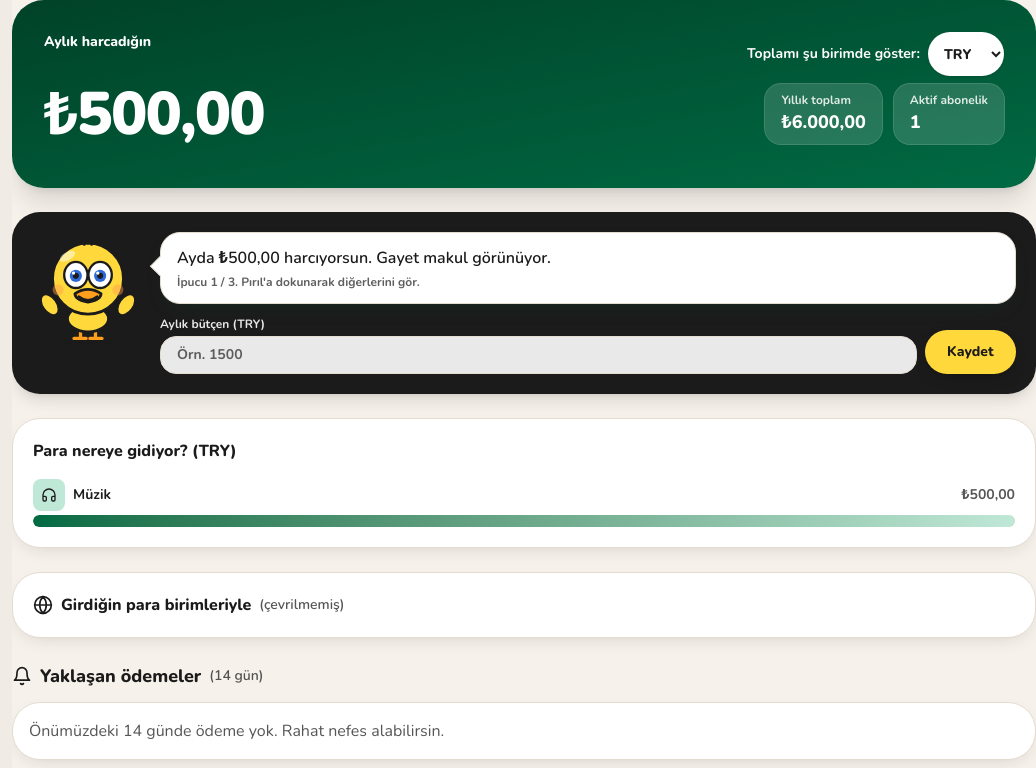
Test: Dashboard › mascot advice › reacts shocked once the saved budget is exceeded, and calms down when it is removed
Expected: the text "Gayet makul" is shown, x1=177 y1=247 x2=551 y2=269
Type "300" into the number field labelled "Aylık bütçen (TRY)" at point(538, 355), box x1=160 y1=336 x2=917 y2=374
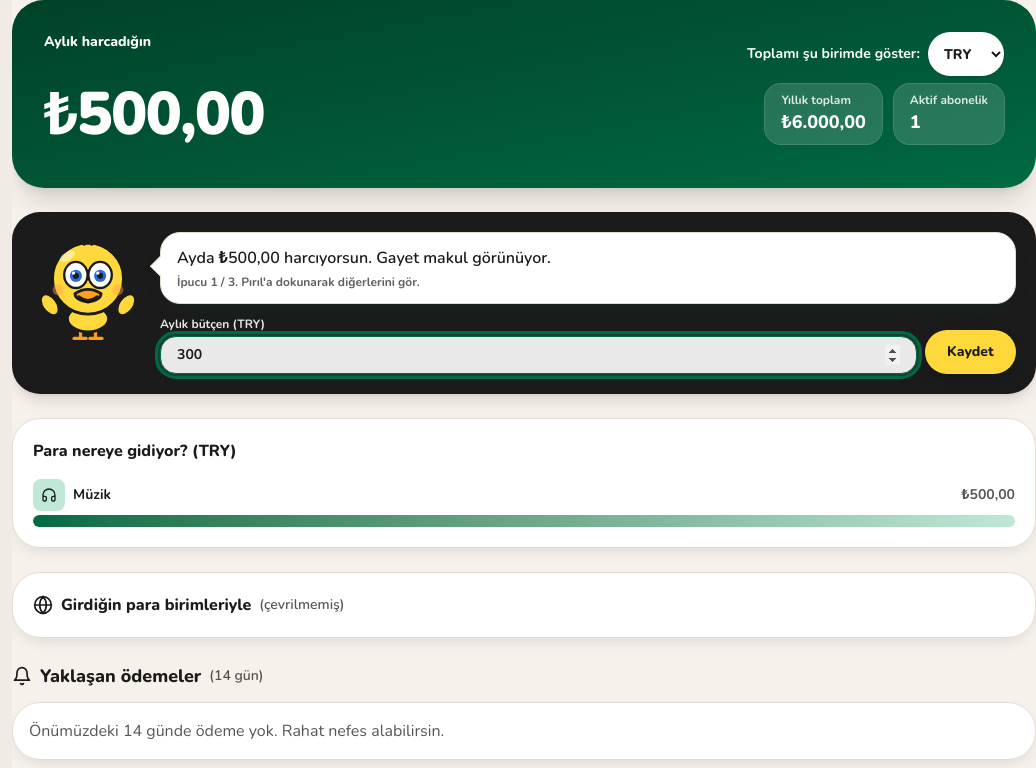
Click the button "Kaydet" at point(970, 352), box x1=925 y1=330 x2=1016 y2=374
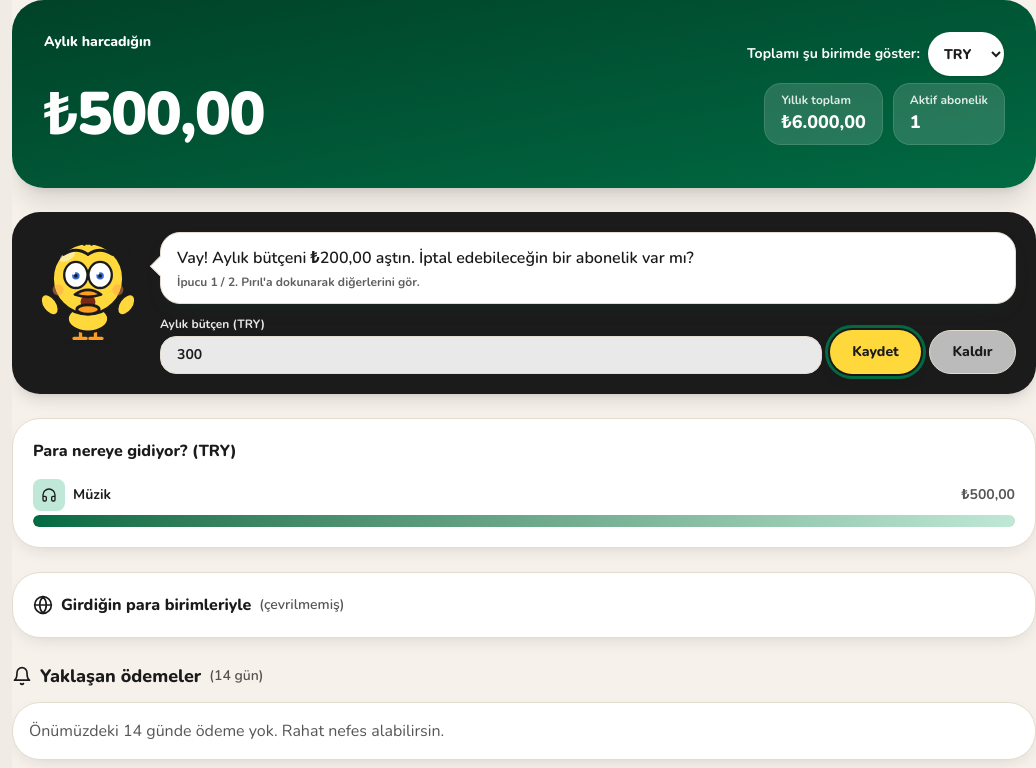
Click the button "Kaldır" at point(973, 352), box x1=929 y1=330 x2=1016 y2=374
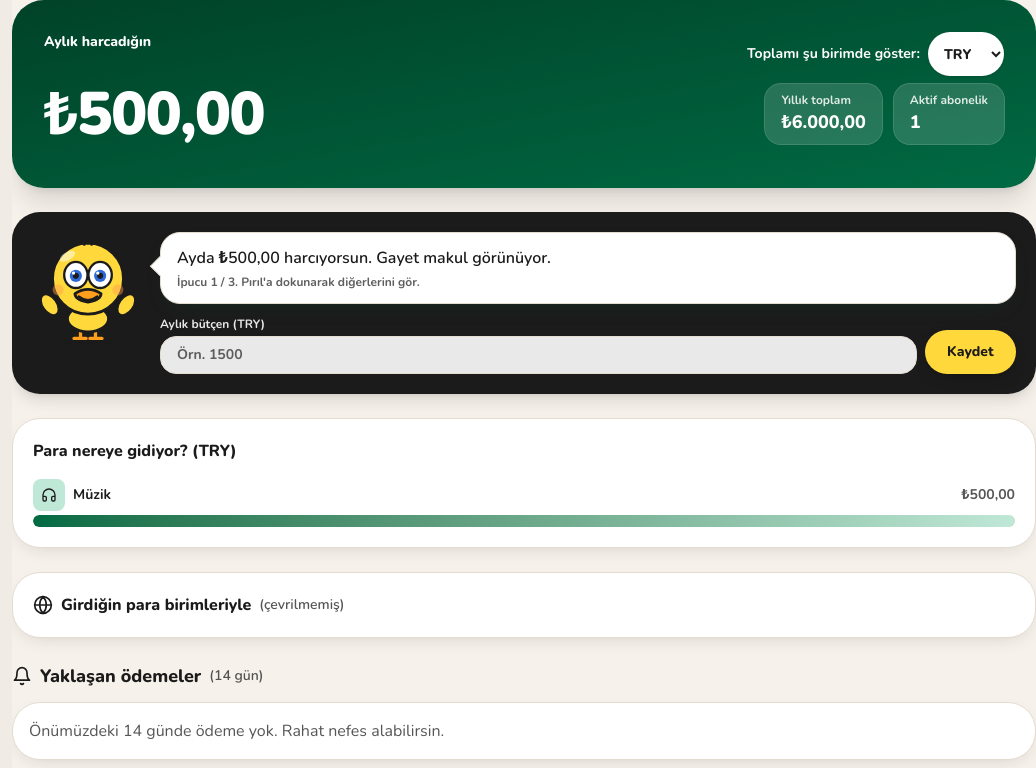
Expected: the text "Gayet makul" is shown, x1=177 y1=247 x2=551 y2=269
